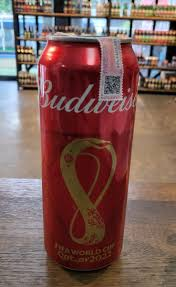can: (34, 27, 138, 275)
